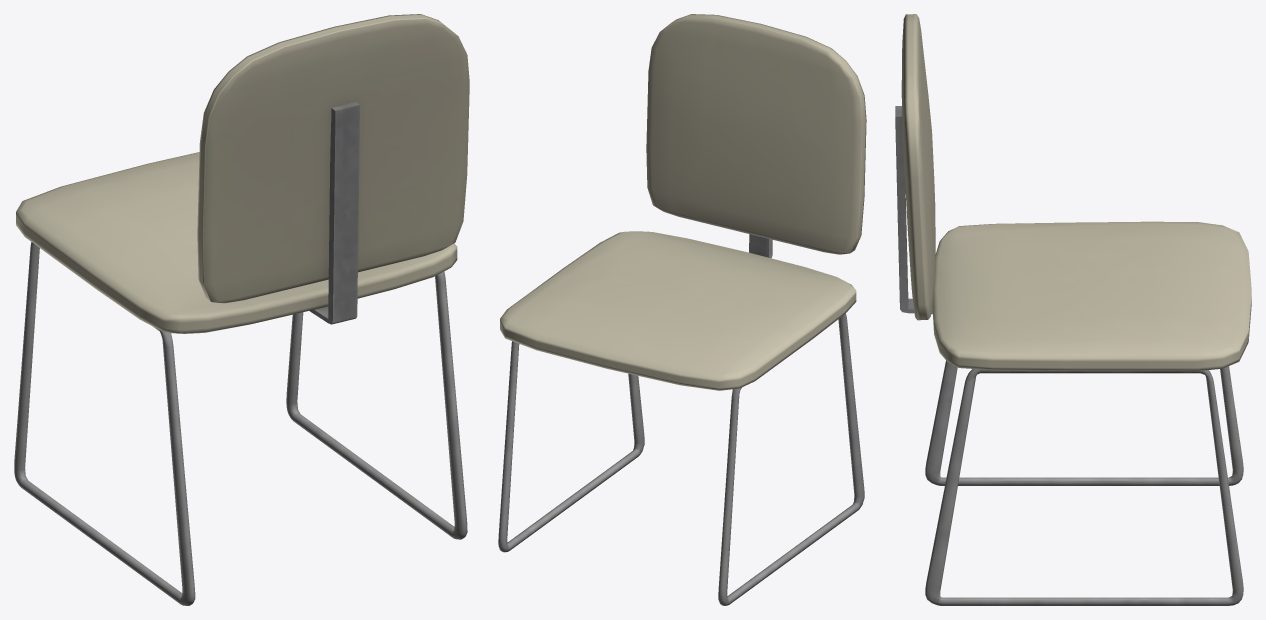
The model's file is Chair.fbx.
3 views of the same model, side by side, from view 1: azimuth 30°, elevation 25°; view 2: azimuth 150°, elevation 25°; view 3: azimuth 270°, elevation 25° (orthographic). The views are drawn at different scales.
Parts seen in each view (by area): view 1: Chair; view 2: Chair; view 3: Chair.
Part boxes in pixels (box(x1,y1,x2,y2)): Chair: box(14, 14, 469, 605); Chair: box(498, 14, 866, 605); Chair: box(895, 14, 1251, 605).
Bounding box in the file's own units: 59.62 × 103 × 66.4.
